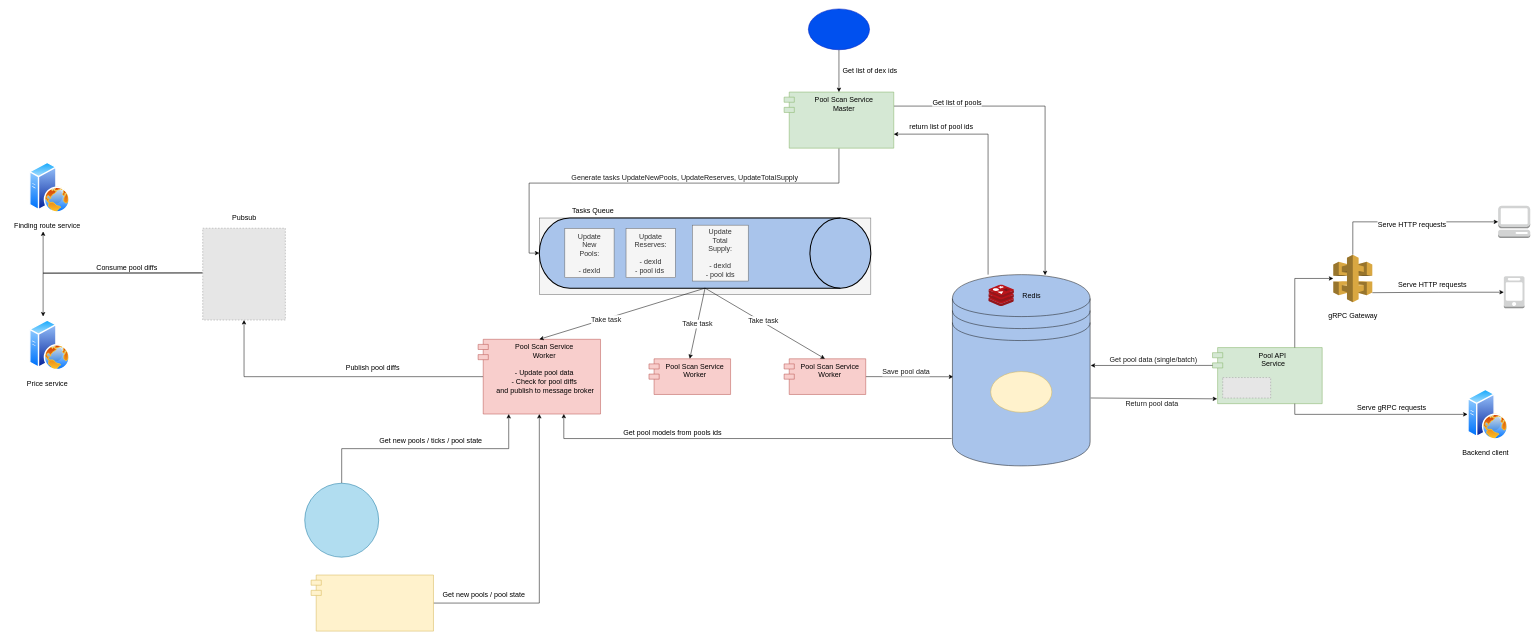
Image size: 1539x640. Some labels were removed from this diagram. Grey dashed boxes stand in for pictures. Here are the shapes that lost their labels. From the top down, the centre of each, then its label:
the point at 839,29: Config file
the point at 1021,391: Hash: Pools
the point at 341,520: Subgraphs
the point at 372,603: RPC Nodes (Ethereum, BSC, Polygon, ...)
